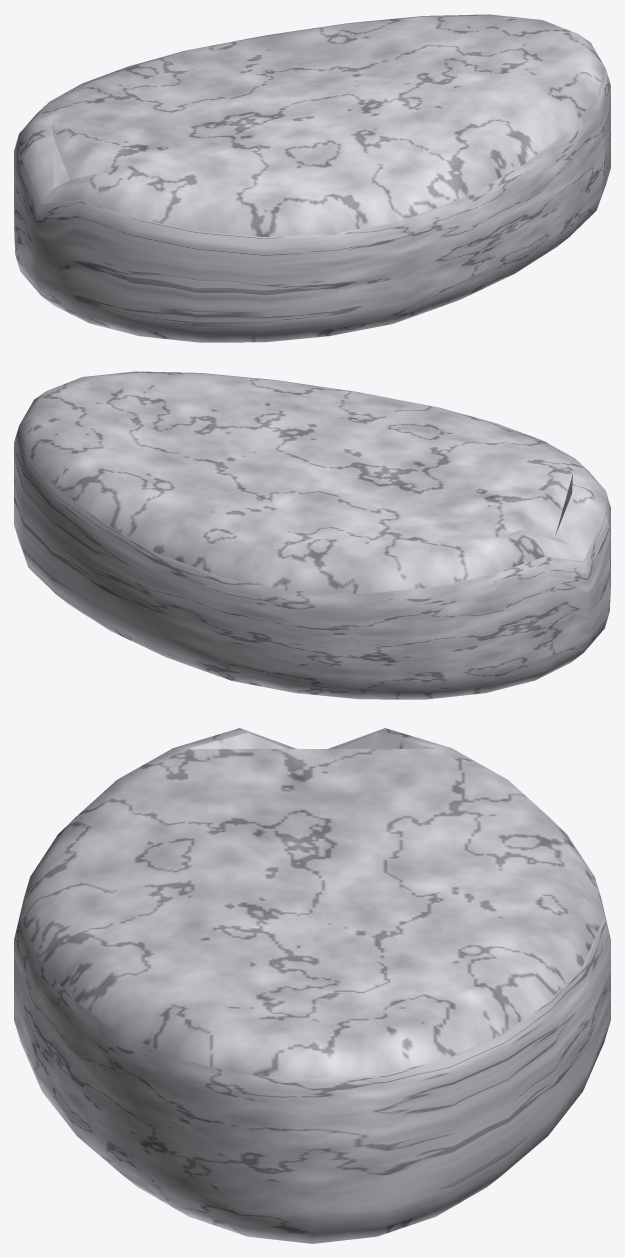
Rendered from candysilver.obj.
3 renders of one model, top to bottom at view 1: azimuth 30°, elevation 25°; view 2: azimuth 150°, elevation 25°; view 3: azimuth 270°, elevation 25°, orthographic. The views are drawn at different scales.
Parts seen in each view (by area): view 1: candysilver_0_surface; view 2: candysilver_0_surface; view 3: candysilver_0_surface.
Part boxes in pixels (x1,y1,x2,y2): candysilver_0_surface: (14, 14, 610, 342); candysilver_0_surface: (14, 371, 610, 699); candysilver_0_surface: (14, 728, 610, 1243).
Size of the model in its own units: 0.1535 by 0.0397 by 0.1082.
Materials: 1 (1 with a texture image).
